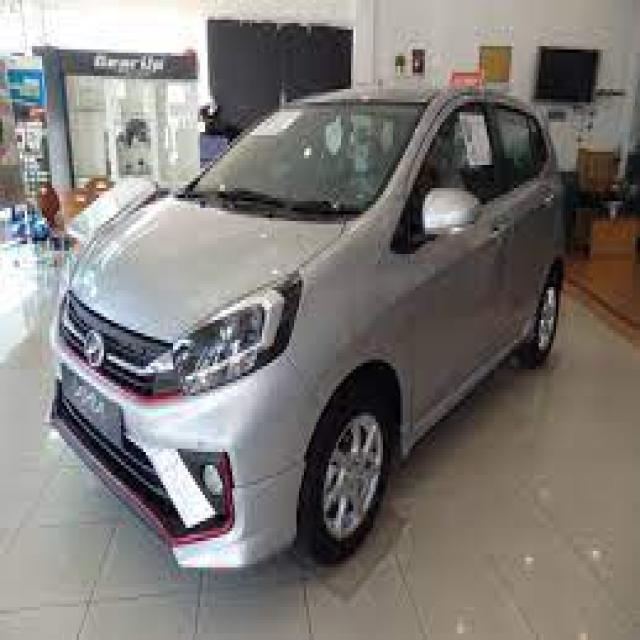PeroduaAxia: (44, 79, 568, 571)
